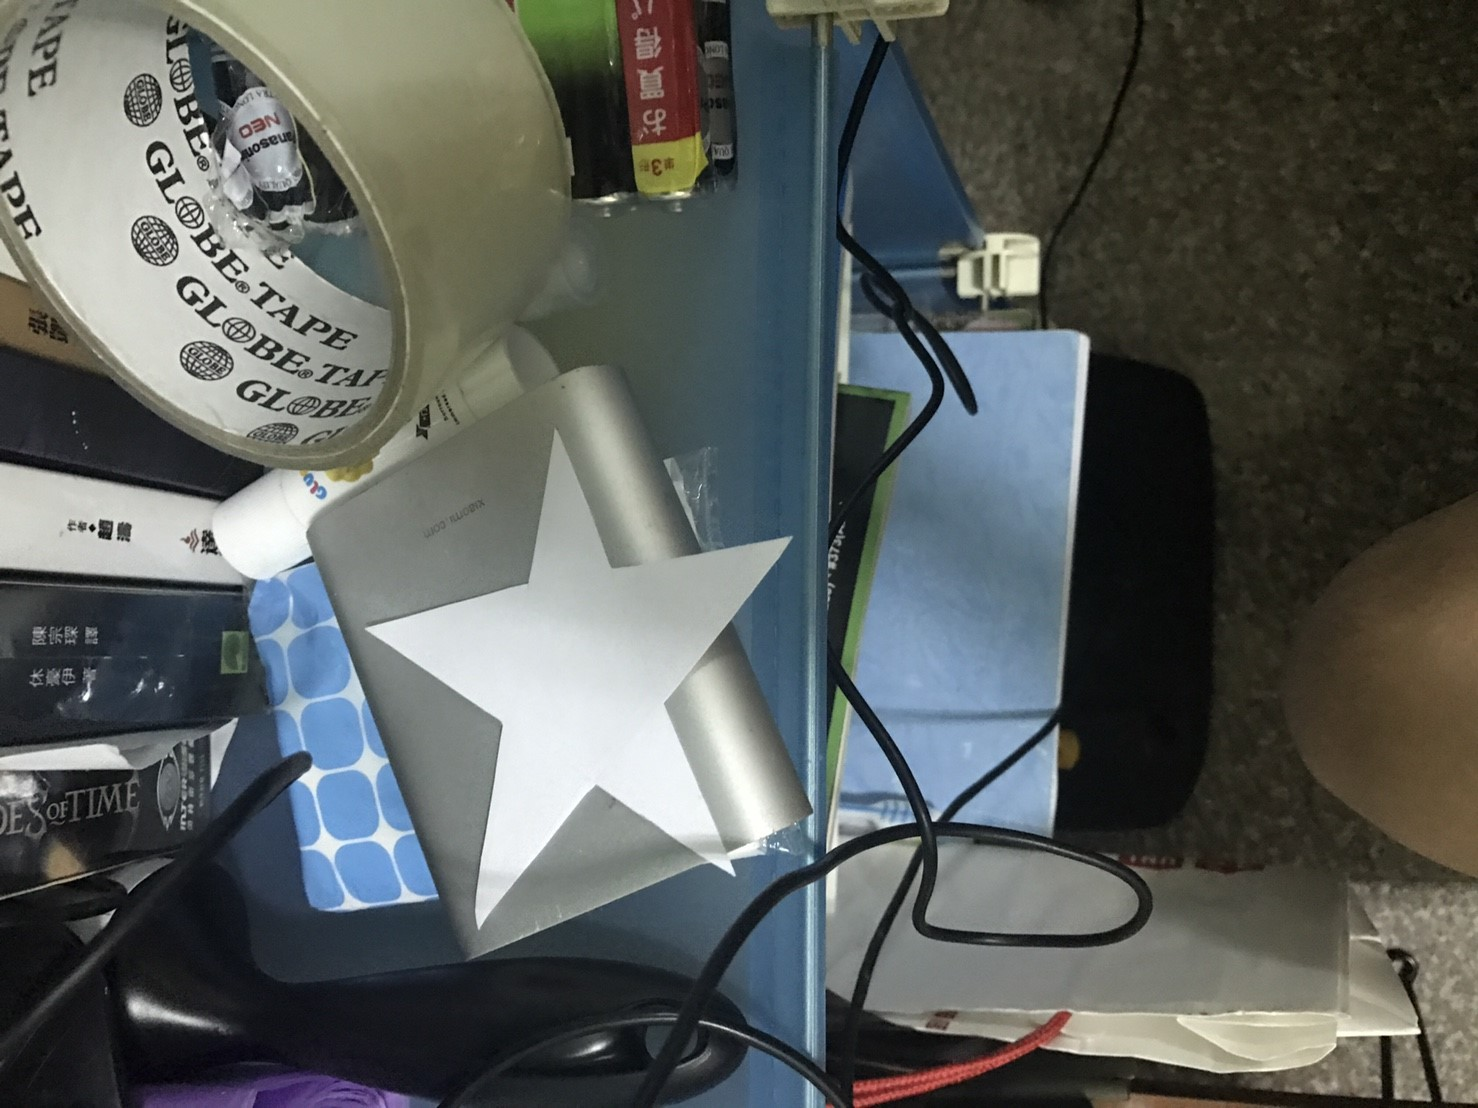star: (357, 425, 844, 937)
